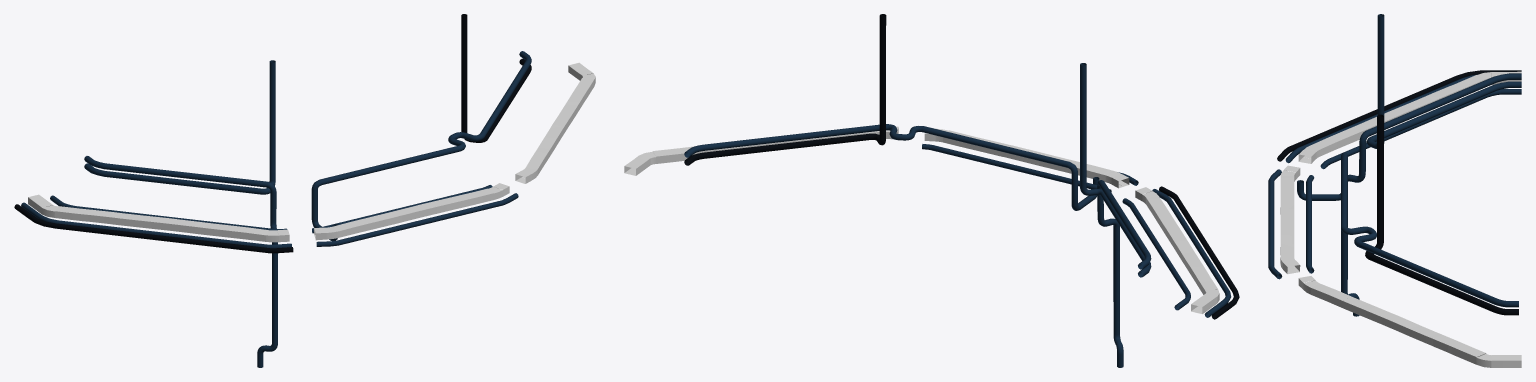
Rendered from SM_H_Building_Tide_DeepJail_01e_ATLAS.fbx.
The picture shows the model from 3 angles, left to right: view 1: azimuth 30°, elevation 25°; view 2: azimuth 150°, elevation 25°; view 3: azimuth 270°, elevation 25°; orthographic projection. The views are drawn at different scales.
Visible parts, largest first — view 1: SM_H_Building_Tide_DeepJail_01e_ATLAS; view 2: SM_H_Building_Tide_DeepJail_01e_ATLAS; view 3: SM_H_Building_Tide_DeepJail_01e_ATLAS.
Part boxes in pixels (x1,y1,x2,y2): SM_H_Building_Tide_DeepJail_01e_ATLAS: [14, 14, 595, 367]; SM_H_Building_Tide_DeepJail_01e_ATLAS: [624, 14, 1239, 367]; SM_H_Building_Tide_DeepJail_01e_ATLAS: [1268, 14, 1521, 367].
Bounding box in the file's own units: 5490 × 1988 × 2701.
